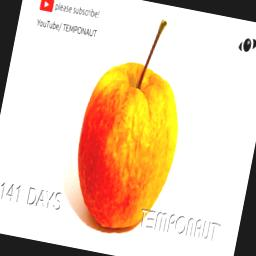Apple Unripe: (62, 0, 204, 242)
